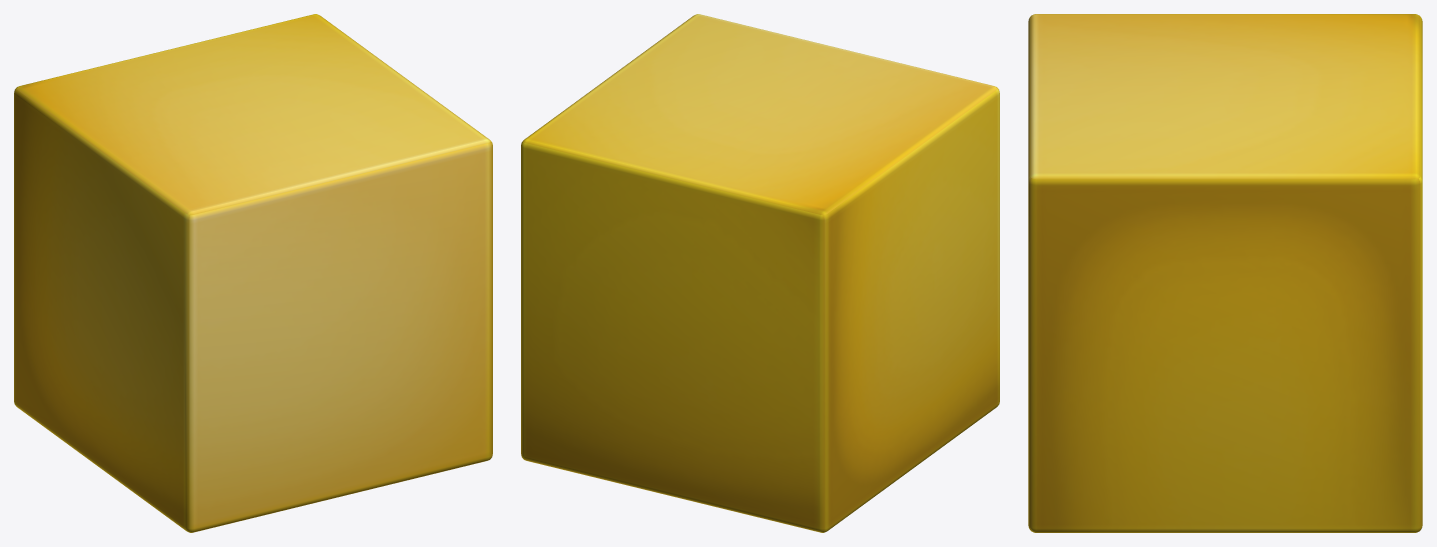
File: Model_Block01.FBX
3 views of the same model, side by side, from view 1: azimuth 30°, elevation 25°; view 2: azimuth 150°, elevation 25°; view 3: azimuth 270°, elevation 25° (orthographic). The views are drawn at different scales.
Visible parts, largest first — view 1: ChamferBox386; view 2: ChamferBox386; view 3: ChamferBox386.
Boxes of the visible parts, x1=… form: ChamferBox386: x1=14, y1=14, x2=492, y2=532; ChamferBox386: x1=521, y1=14, x2=999, y2=532; ChamferBox386: x1=1028, y1=14, x2=1422, y2=532.
Size of the model in its own units: 50 by 50 by 50.
